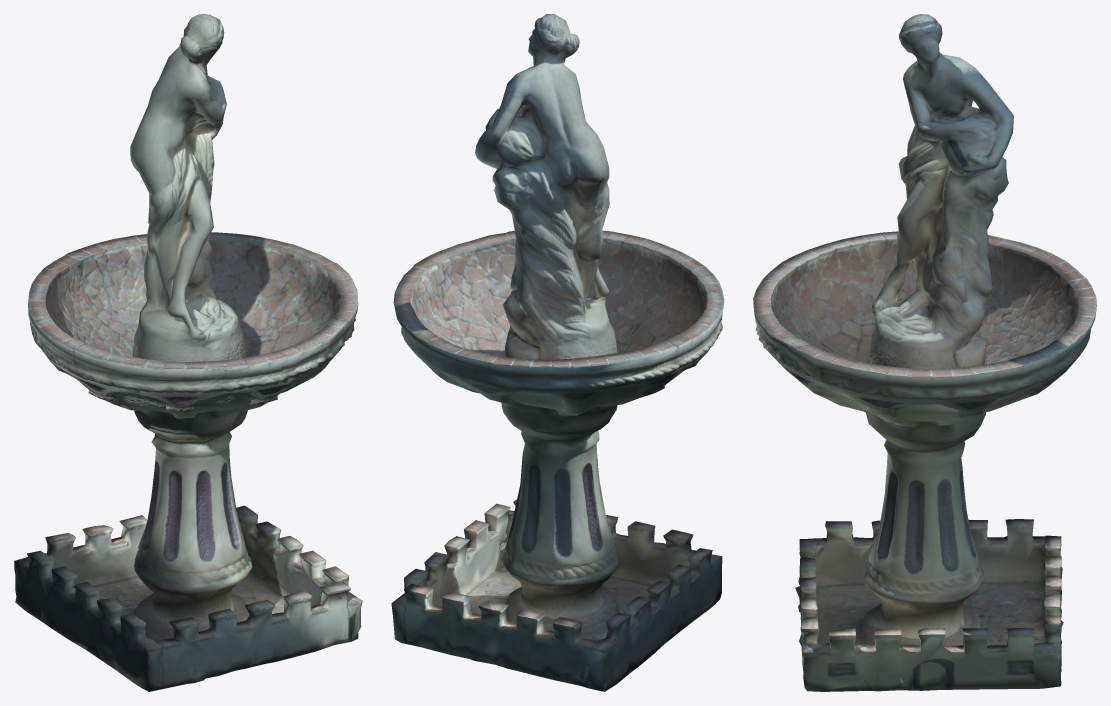
Rendered from garden_statue.glb.
3 renders of one model, left to right at view 1: azimuth 30°, elevation 25°; view 2: azimuth 150°, elevation 25°; view 3: azimuth 270°, elevation 25°, orthographic. The views are drawn at different scales.
Parts seen in each view (by area): view 1: GardenStatue; view 2: GardenStatue; view 3: GardenStatue.
Boxes of the visible parts, x1=… form: GardenStatue: x1=14, y1=14, x2=362, y2=691; GardenStatue: x1=391, y1=14, x2=724, y2=691; GardenStatue: x1=753, y1=14, x2=1096, y2=691.
Bounding box in the file's own units: 0.8024 × 1.6 × 0.7965.
1 material, 1 textured.
